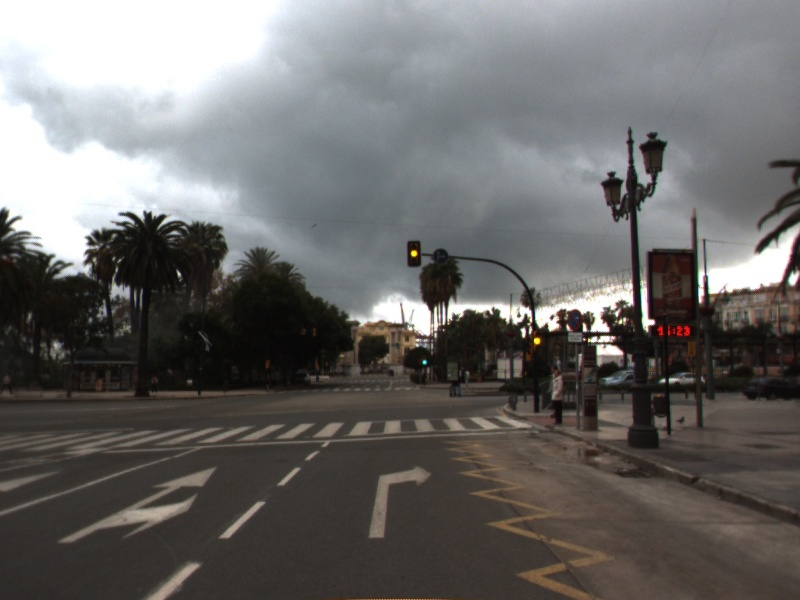RIGHT: (366, 460, 435, 540)
STRAIGHT_RIGHT: (54, 464, 220, 546)
